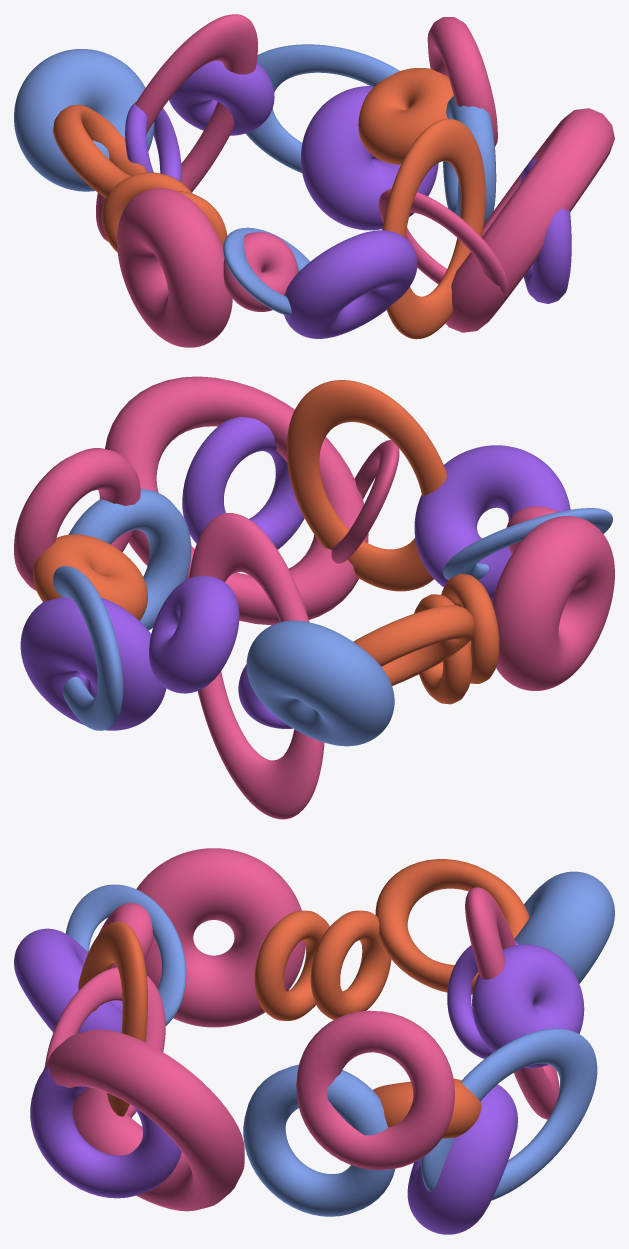
The model's file is torus-links.gltf.
The picture shows the model from 3 angles, top to bottom: view 1: azimuth 30°, elevation 25°; view 2: azimuth 150°, elevation 25°; view 3: azimuth 270°, elevation 25°; orthographic projection. The views are drawn at different scales.
Visible parts, largest first — view 1: Torus.011, Torus.016, Torus.008, Torus.012, Torus.013, Torus.005, Torus.001, Torus.004, Torus.006, Torus.007, Torus.002, Torus.003 (+8 smaller); view 2: Torus.016, Torus.011, Torus.001, Torus.008, Torus.013, Torus.012, Torus.005, Torus.007, Torus.017, Torus.003, Torus.015, Torus.006 (+7 smaller); view 3: Torus.016, Torus.011, Torus.003, Torus.015, Torus.006, Torus.017, Torus.005, Torus.007, Torus.002, Torus.008, Torus.012, Torus.020 (+8 smaller).
Part boxes in pixels (x1,y1,x2,y2): Torus.011: (117, 188, 232, 347); Torus.016: (445, 108, 614, 332); Torus.008: (14, 49, 154, 191); Torus.012: (284, 230, 417, 338); Torus.013: (382, 118, 485, 339); Torus.005: (301, 86, 438, 230); Torus.001: (96, 14, 257, 241); Torus.004: (358, 68, 453, 164); Torus.006: (245, 44, 399, 172); Torus.007: (169, 60, 274, 135); Torus.002: (53, 104, 147, 197); Torus.003: (427, 17, 497, 146); Torus.016: (105, 376, 368, 625); Torus.011: (492, 516, 614, 690); Torus.001: (189, 513, 324, 819); Torus.008: (246, 620, 394, 746); Torus.013: (286, 380, 446, 591); Torus.012: (414, 445, 570, 602); Torus.005: (20, 597, 166, 730); Torus.007: (149, 576, 239, 693); Torus.017: (182, 417, 304, 549); Torus.003: (14, 448, 140, 590); Torus.015: (68, 489, 191, 630); Torus.006: (53, 566, 123, 730); Torus.016: (43, 1029, 244, 1211); Torus.011: (136, 848, 305, 1027); Torus.003: (296, 1010, 454, 1169); Torus.015: (243, 1064, 395, 1216); Torus.006: (421, 1028, 597, 1200); Torus.017: (30, 1067, 181, 1198); Torus.005: (407, 1084, 517, 1234); Torus.007: (472, 944, 584, 1068); Torus.002: (375, 859, 529, 994); Torus.008: (514, 871, 614, 983); Torus.012: (14, 928, 122, 1033); Torus.020: (310, 910, 391, 1019).
Size of the model in its own units: 4.08 by 2.03 by 4.22.
